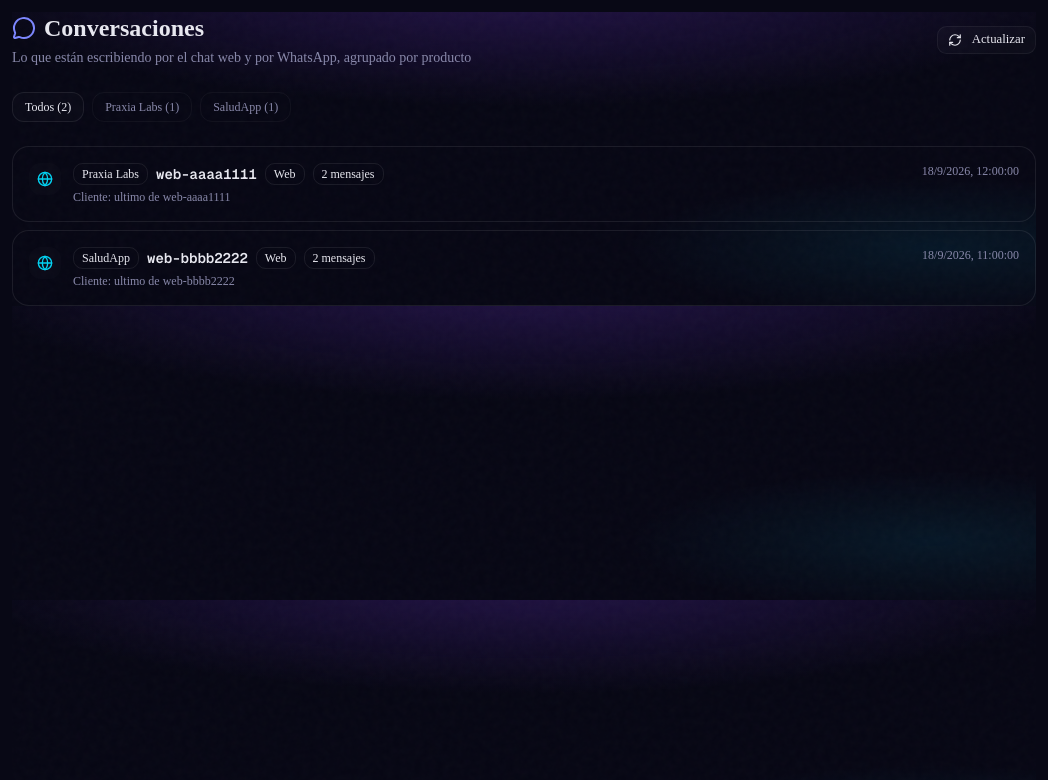
Scenario: panel de conversaciones › etiqueta cada conversación con su producto y filtra por él
The width and height of the screenshot is (1048, 780).
Expected: the text "web-aaaa1111" is shown, [156,164,257,184]
Expected: the text "web-bbbb2222" is shown, [147,248,248,268]
Click the button "SaludApp (1)": (246, 107) [200,92,291,122]
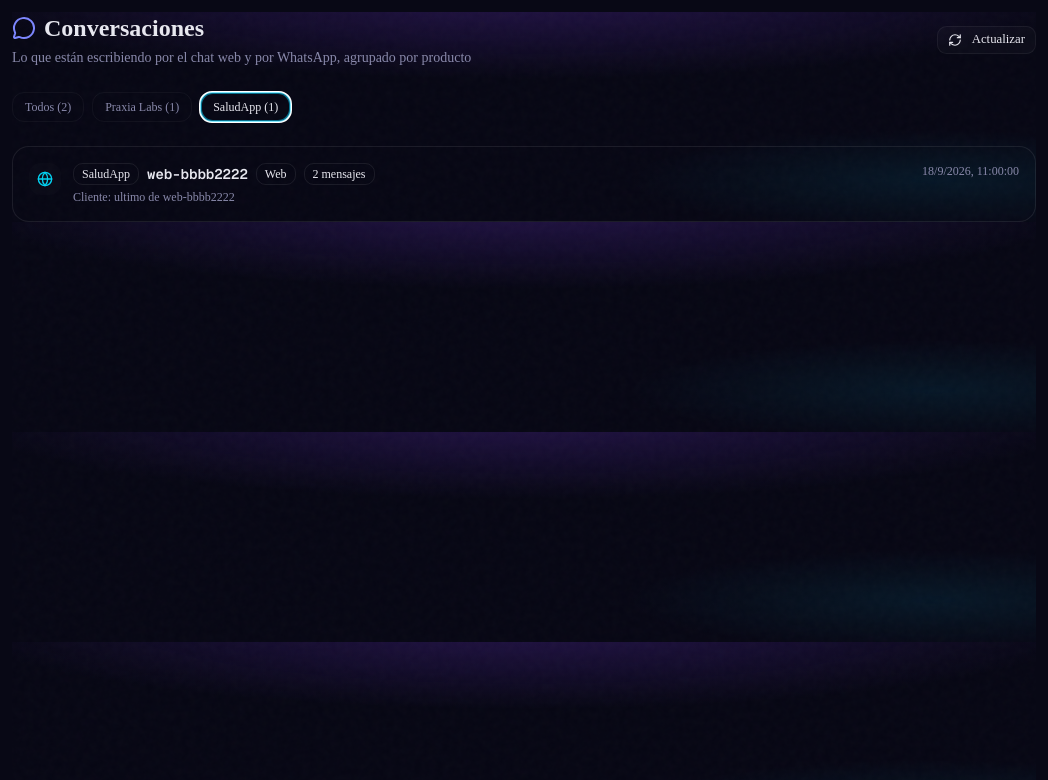
Expected: the text "web-bbbb2222" is shown, [147,164,248,184]
Now the button "web-aaaa1111" is gone
